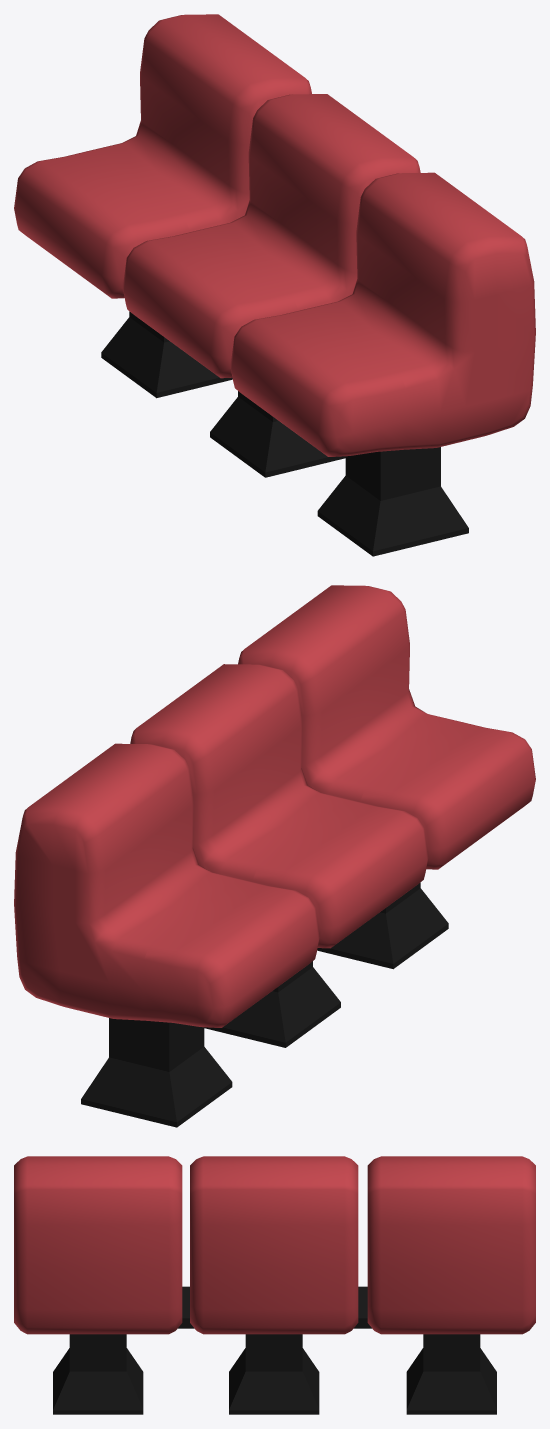
Rendered from bowlingball_3Seats.fbx.
3 renders of one model, top to bottom at view 1: azimuth 30°, elevation 25°; view 2: azimuth 150°, elevation 25°; view 3: azimuth 270°, elevation 25°, orthographic. The views are drawn at different scales.
Visible parts, largest first — view 1: Cube.008, Cube.003, Cube.005, Cube.007, Cube.006, Cube.002; view 2: Cube.003, Cube.005, Cube.008, Cube.002, Cube.006, Cube.007; view 3: Cube.003, Cube.008, Cube.005, Cube.006, Cube.002, Cube.007, Cube.004.
Part boxes in pixels (x1,y1,x2,y2): Cube.008: [230, 172, 535, 456]; Cube.003: [14, 14, 311, 298]; Cube.005: [122, 94, 420, 378]; Cube.007: [317, 447, 468, 556]; Cube.006: [210, 391, 345, 477]; Cube.002: [101, 311, 232, 398]; Cube.003: [14, 743, 319, 1027]; Cube.005: [130, 664, 428, 948]; Cube.008: [238, 585, 535, 869]; Cube.002: [81, 1018, 232, 1127]; Cube.006: [204, 961, 340, 1047]; Cube.007: [317, 882, 448, 969]; Cube.003: [367, 1156, 535, 1334]; Cube.008: [14, 1156, 182, 1334]; Cube.005: [190, 1156, 358, 1334]; Cube.006: [229, 1334, 319, 1414]; Cube.002: [406, 1334, 496, 1414]; Cube.007: [53, 1334, 143, 1414]; Cube.004: [178, 1286, 371, 1328].
Bounding box in the file's own units: 276 × 375 × 707.
